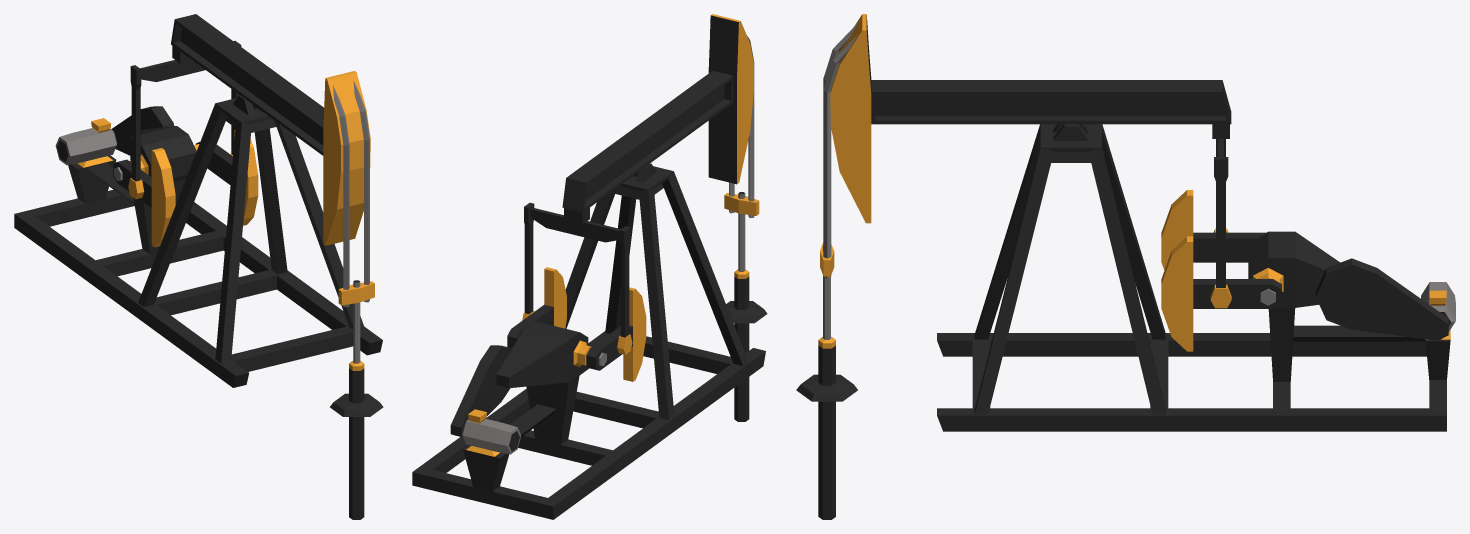
Rendered from buildings-pumpjack.glb.
3 views of the same model, side by side, from view 1: azimuth 30°, elevation 25°; view 2: azimuth 150°, elevation 25°; view 3: azimuth 270°, elevation 25° (orthographic). The views are drawn at different scales.
Parts seen in each view (by area): view 1: pumpjack; view 2: pumpjack; view 3: pumpjack.
Part boxes in pixels (x1,y1,x2,y2): pumpjack: (14, 14, 383, 519); pumpjack: (412, 14, 767, 519); pumpjack: (796, 14, 1455, 519).
Bounding box in the file's own units: 2.2 × 6.14 × 7.42.
